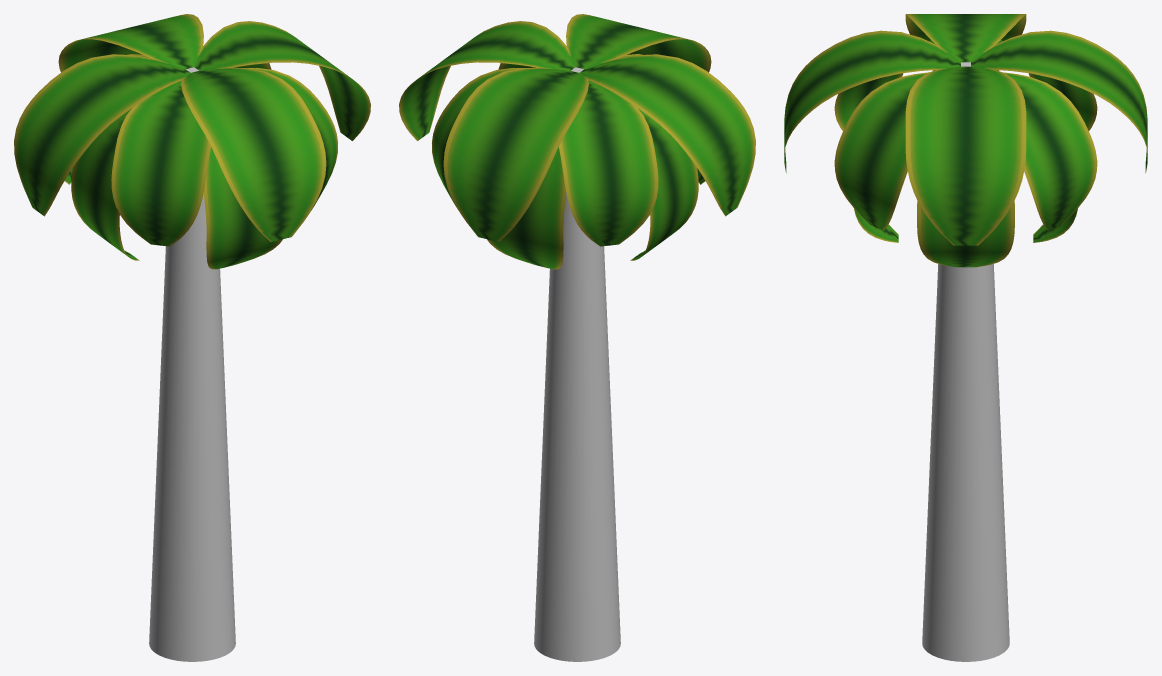
The model's file is DK's Jungle Parkway Tree 2.dae.
The picture shows the model from 3 angles, left to right: view 1: azimuth 30°, elevation 25°; view 2: azimuth 150°, elevation 25°; view 3: azimuth 270°, elevation 25°; orthographic projection.
Parts seen in each view (by area): view 1: Leaves, Tree; view 2: Leaves, Tree; view 3: Leaves, Tree.
Part boxes in pixels (x1,y1,x2,y2): Leaves: (14, 14, 370, 269); Tree: (149, 67, 235, 661); Leaves: (399, 14, 755, 269); Tree: (534, 67, 620, 661); Leaves: (784, 14, 1147, 267); Tree: (922, 62, 1009, 661).
Size of the model in its own units: 60.17 by 108 by 60.17.
